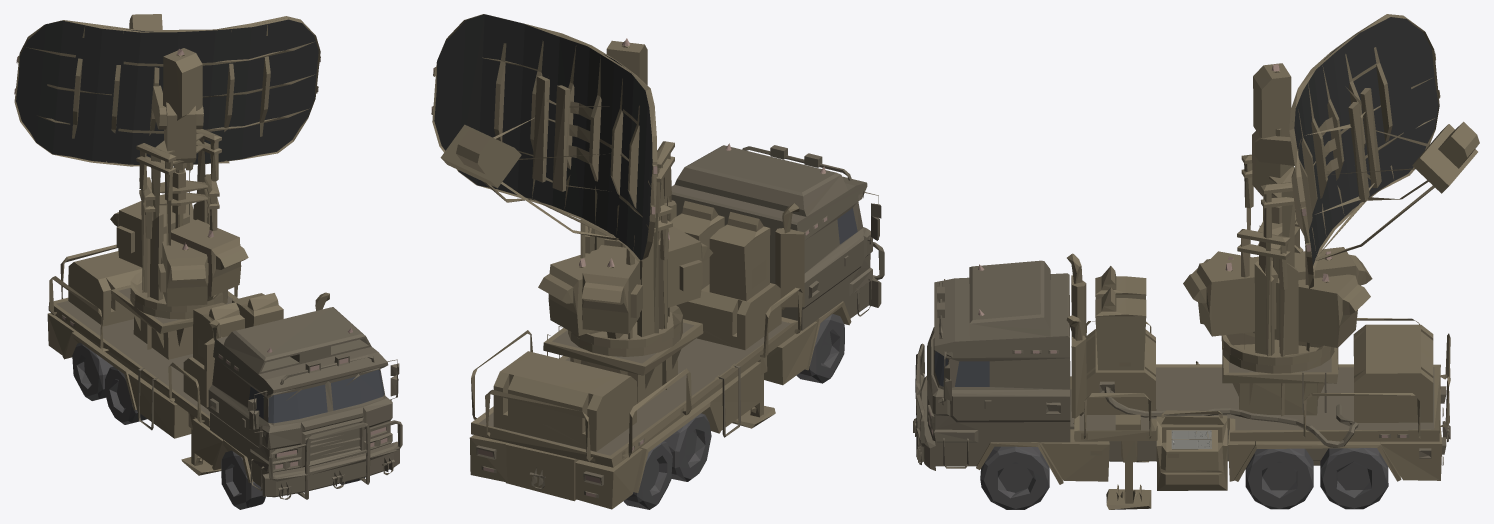
File: DefRadar.glb
3 views of the same model, side by side, from view 1: azimuth 30°, elevation 25°; view 2: azimuth 150°, elevation 25°; view 3: azimuth 270°, elevation 25° (orthographic). The views are drawn at different scales.
Visible parts, largest first — view 1: Object_7, Object_5, Object_4, Object_2, Object_3, Object_6; view 2: Object_7, Object_5, Object_4, Object_2, Object_6; view 3: Object_7, Object_4, Object_5, Object_2, Object_3, Object_9.
Part boxes in pixels (x1,y1,x2,y2): Object_7: (14, 14, 350, 482); Object_5: (16, 19, 318, 164); Object_4: (56, 288, 402, 499); Object_2: (72, 342, 365, 509); Object_3: (249, 369, 384, 423); Object_6: (14, 49, 387, 469); Object_7: (431, 14, 851, 509); Object_5: (434, 14, 652, 260); Object_4: (476, 145, 884, 498); Object_2: (623, 314, 844, 509); Object_6: (431, 38, 827, 497); Object_7: (976, 14, 1479, 509); Object_4: (913, 260, 1450, 470); Object_5: (1294, 17, 1438, 265); Object_2: (980, 446, 1388, 509); Object_3: (934, 350, 989, 386); Object_9: (1171, 430, 1211, 449).
Bounding box in the file's own units: 595 × 852 × 1033.
